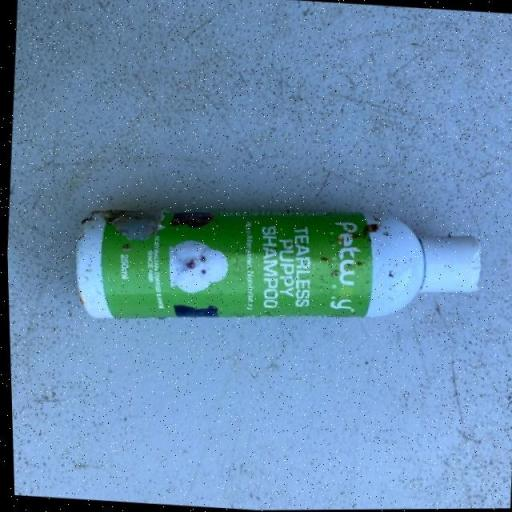plastic: (66, 189, 484, 346)
